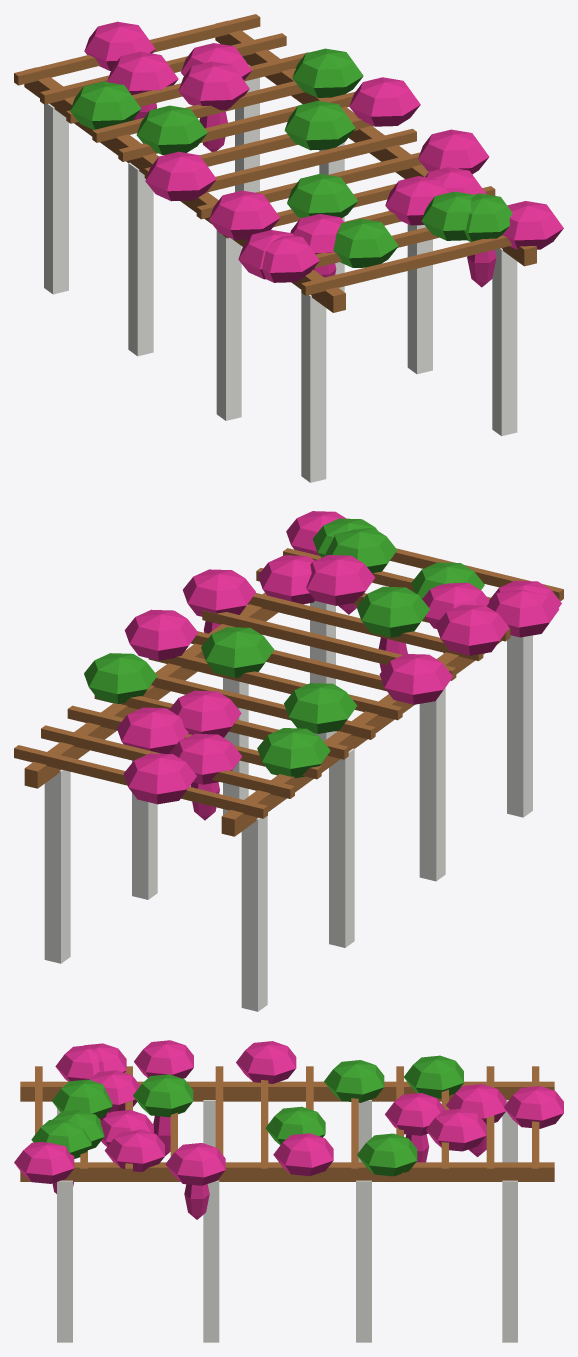
Rendered from env_pbg_pergola.fbx.
The picture shows the model from 3 angles, top to bottom: view 1: azimuth 30°, elevation 25°; view 2: azimuth 150°, elevation 25°; view 3: azimuth 270°, elevation 25°; orthographic projection. The views are drawn at different scales.
Visible parts, largest first — view 1: env_pbg_pergola_geo_LOD0; view 2: env_pbg_pergola_geo_LOD0; view 3: env_pbg_pergola_geo_LOD0.
Boxes of the visible parts, x1=… form: env_pbg_pergola_geo_LOD0: x1=14, y1=14, x2=563, y2=482; env_pbg_pergola_geo_LOD0: x1=14, y1=511, x2=563, y2=1011; env_pbg_pergola_geo_LOD0: x1=14, y1=1040, x2=563, y2=1342.
Size of what is drawn, in the model's own units: 4.7 by 3.64 by 8.65.
